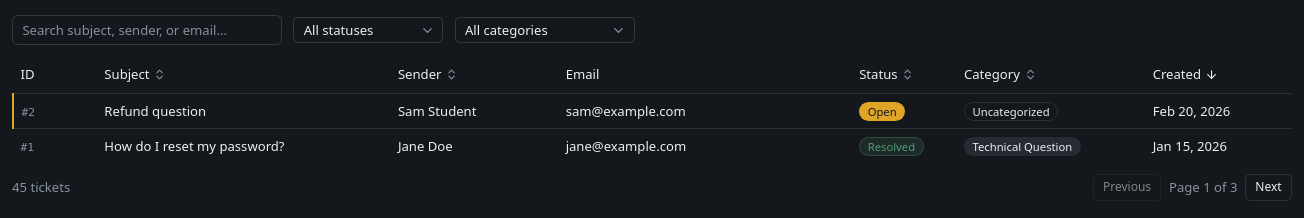
Test: TicketsTable › requests the next page when Next is clicked, and disables Next on the last page
Expected: the link "Refund question" is shown, [104,102,206,120]
Click the button "Next".
click(1268, 187)  # box [1245,174,1292,201]
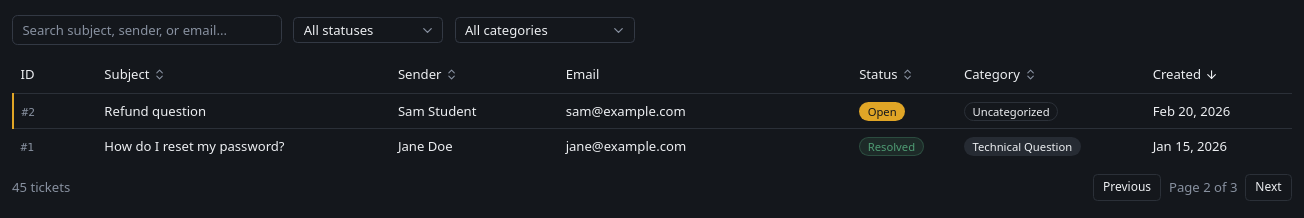
Result: the text "Page 2 of 3" is shown at [1169,178,1237,197]
Click the button "Next".
click(1268, 187)  # box [1245,174,1292,201]
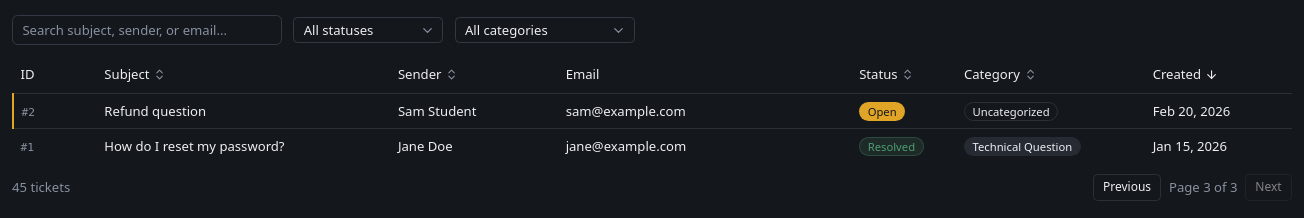
Result: the text "Page 3 of 3" is shown at [1169,178,1237,197]
Result: the button "Next" is disabled at [1245,174,1292,201]
